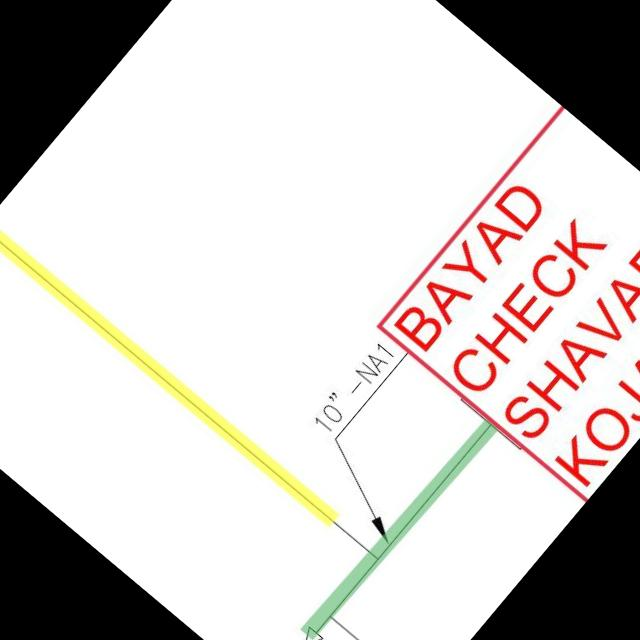GV: (278, 616, 331, 640)
